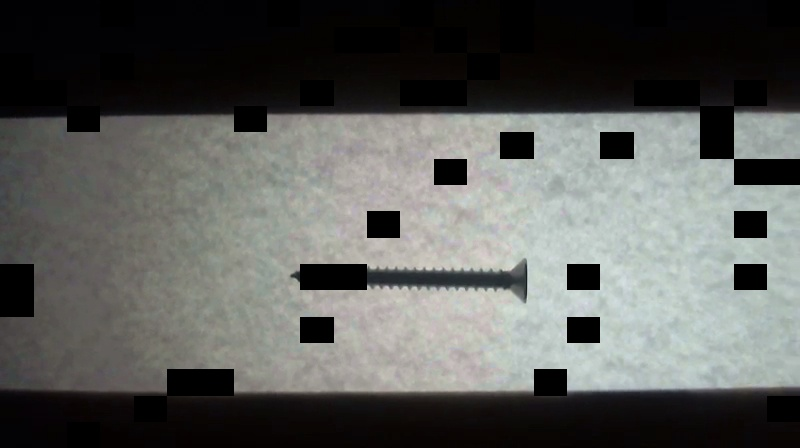S002: (287, 256, 530, 307)
